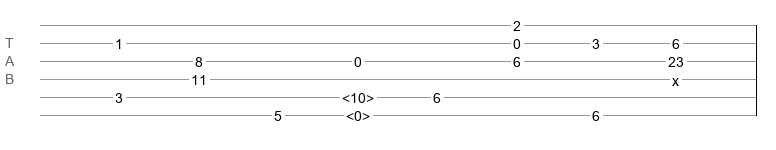0: (354, 54, 362, 64), (513, 36, 521, 46)
1: (115, 36, 123, 46)
11: (191, 72, 207, 82)
2: (513, 18, 521, 28)
23: (668, 54, 684, 64)
3: (115, 90, 123, 100), (592, 36, 600, 46)
5: (274, 108, 282, 118)
6: (433, 90, 441, 100), (513, 54, 521, 64), (592, 108, 600, 118), (672, 36, 680, 46)
8: (195, 54, 203, 64)
harmonic: (342, 90, 374, 100), (346, 108, 370, 118)
x: (672, 73, 679, 81)
